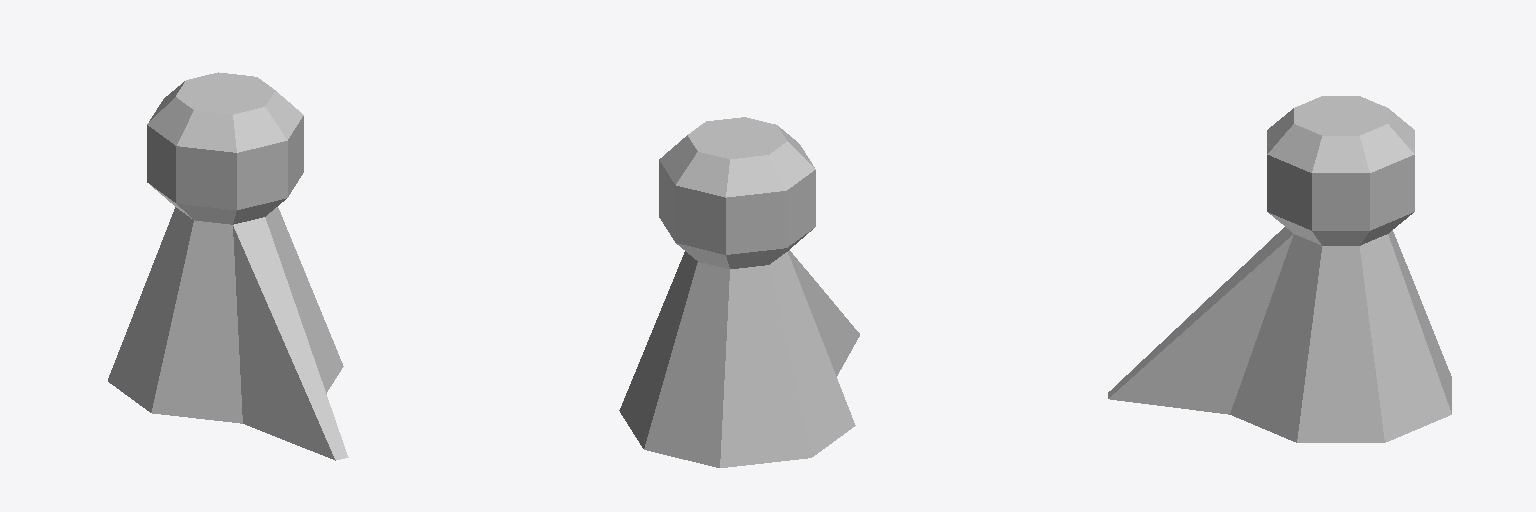
Rendered from entity_model.obj.
The picture shows the model from 3 angles: view 1: azimuth 30°, elevation 25°; view 2: azimuth 150°, elevation 25°; view 3: azimuth 270°, elevation 25°; orthographic projection.
Parts seen in each view (by area): view 1: Cube_Cube.001; view 2: Cube_Cube.001; view 3: Cube_Cube.001.
Part boxes in pixels (x1,y1,x2,y2): Cube_Cube.001: (108,72,348,460); Cube_Cube.001: (619,117,859,467); Cube_Cube.001: (1108,96,1451,442).
Bounding box in the file's own units: 2 × 2.78 × 3.1.